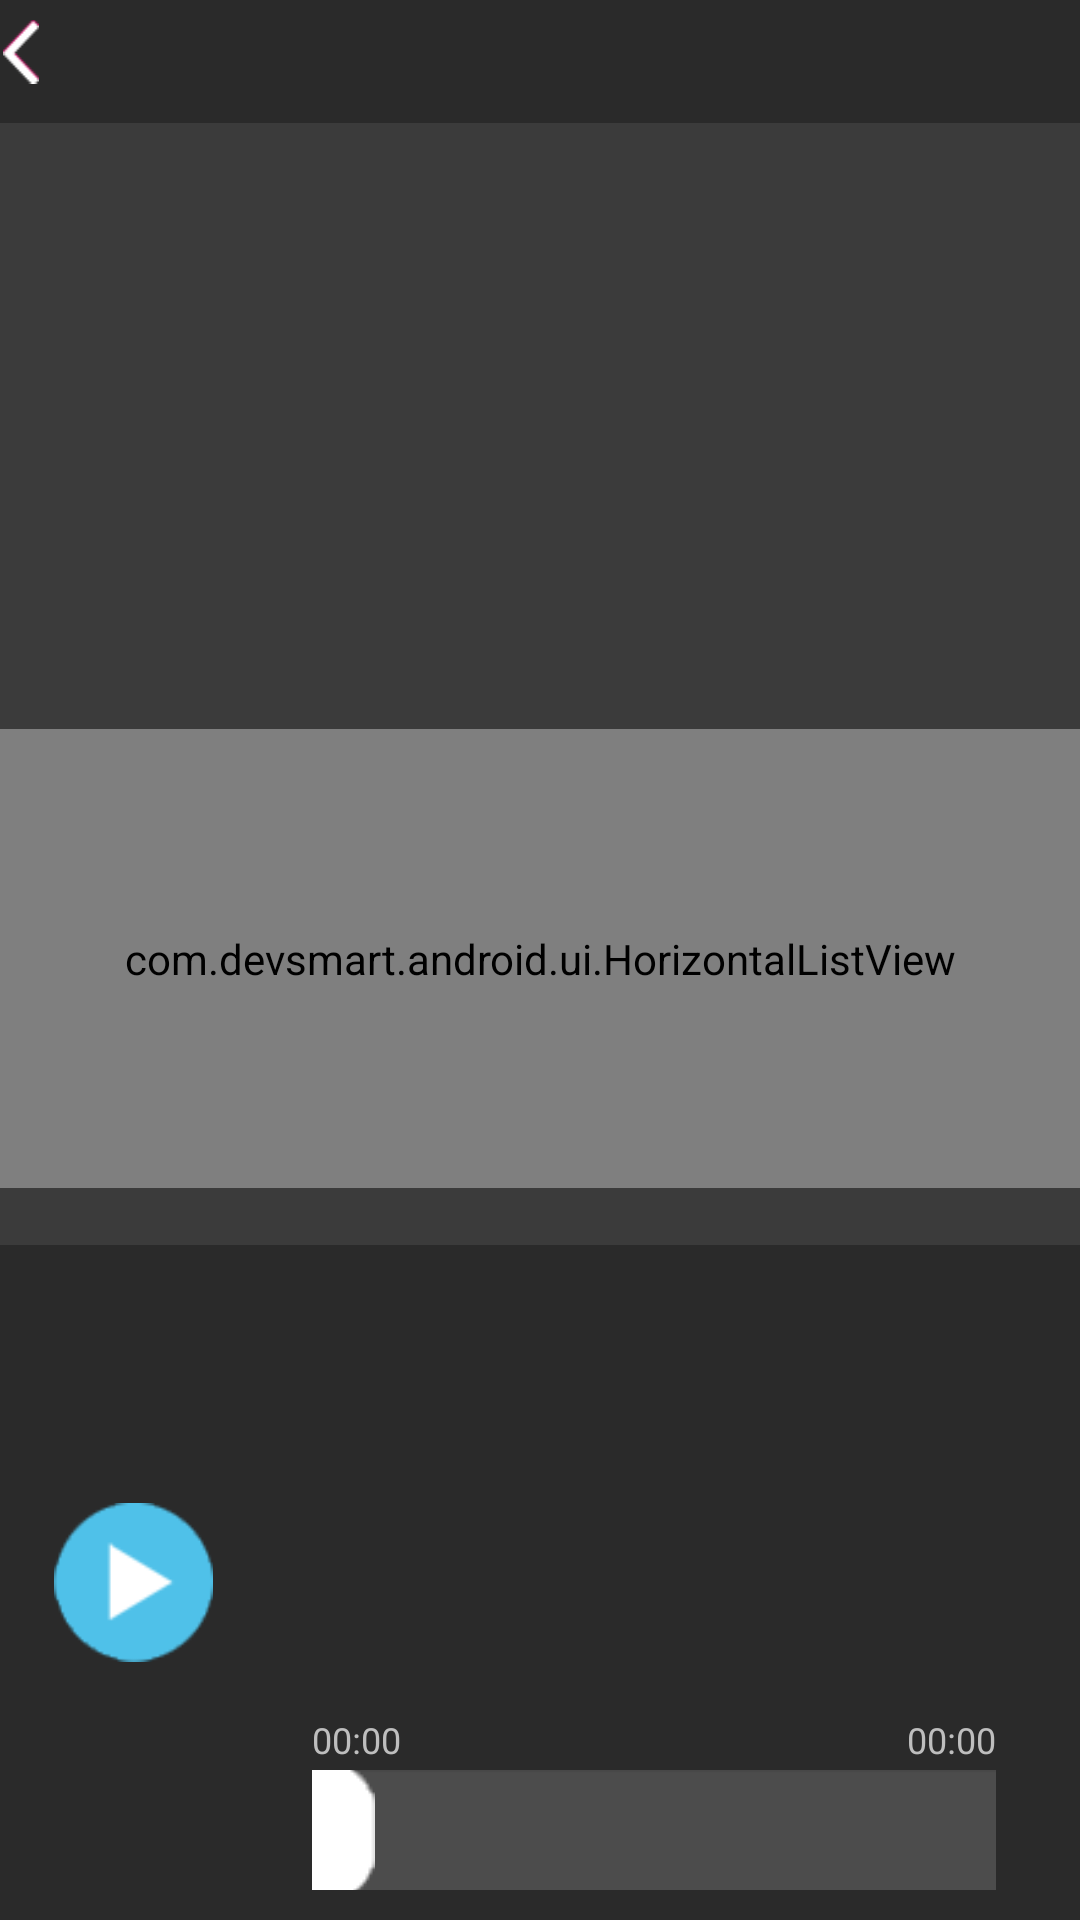

Point at icon controls on the screen. Image size 1080 × 1920, points as [x,y].
back: [21,52]
